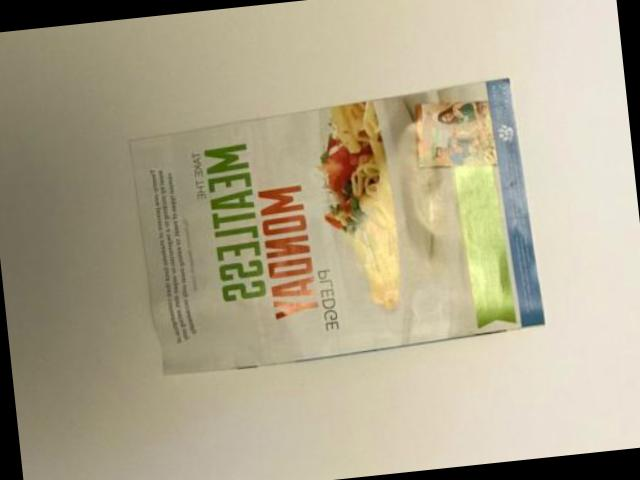cardboard paper: (134, 79, 544, 370)
